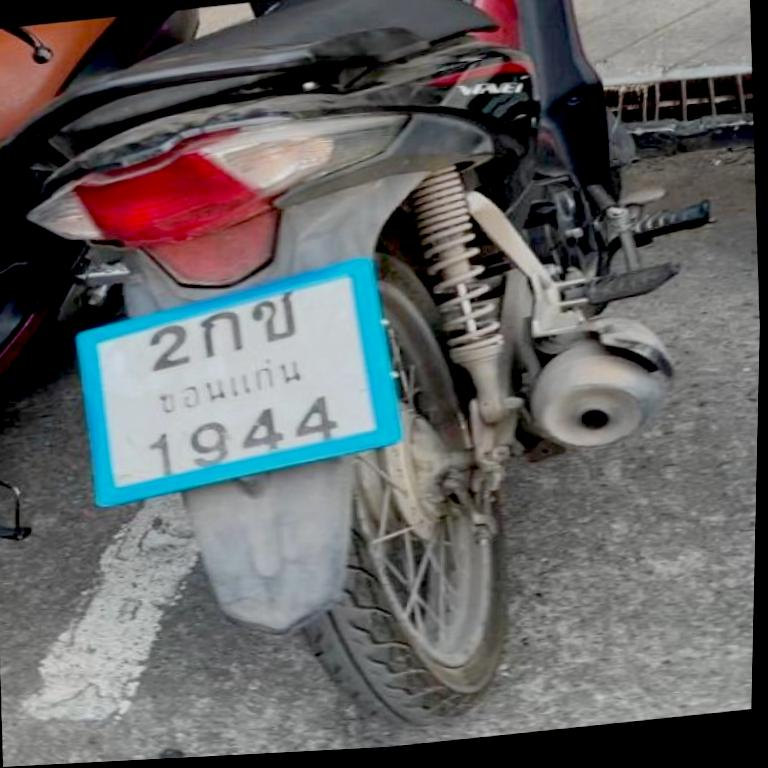license plate: (79, 258, 399, 505)
